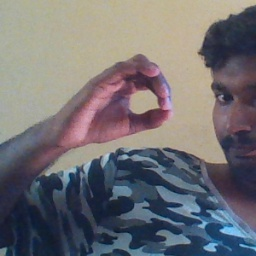O: (58, 50, 179, 147)
